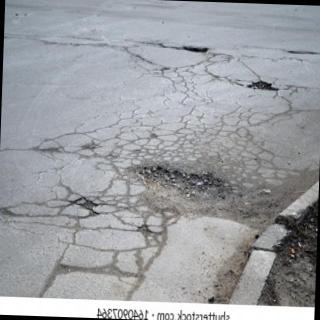pothole: (136, 165, 230, 208), (229, 76, 278, 90), (178, 46, 208, 52)
